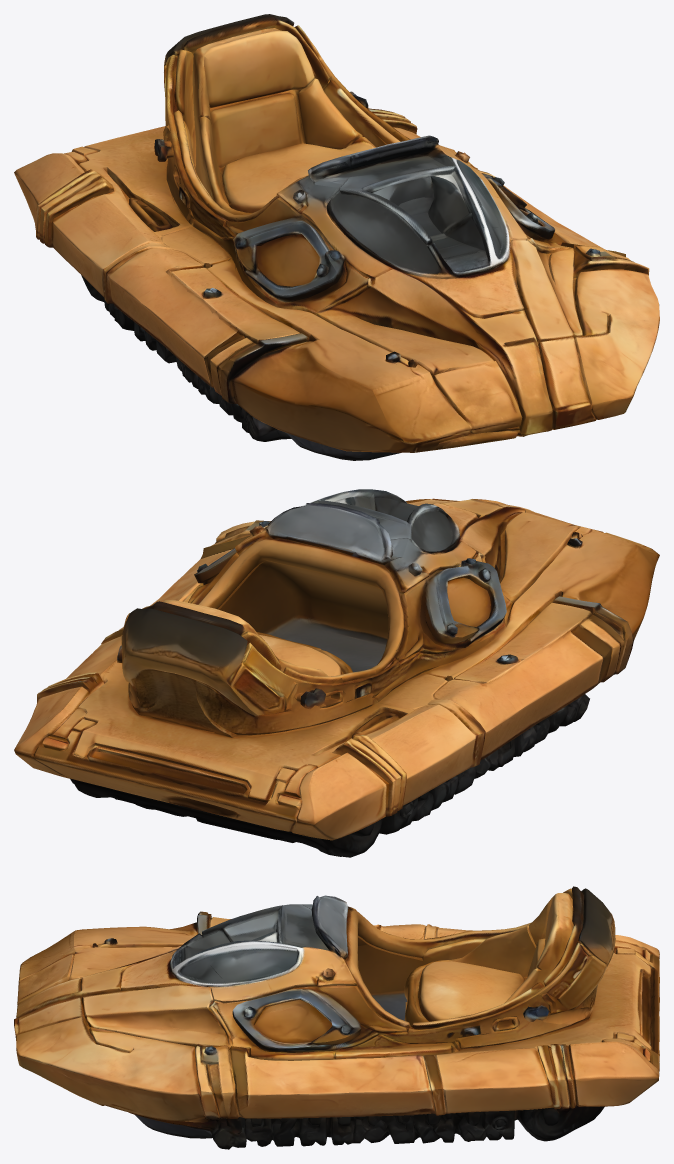
The model's file is speeder_text2.glb.
The picture shows the model from 3 angles, top to bottom: view 1: azimuth 30°, elevation 25°; view 2: azimuth 150°, elevation 25°; view 3: azimuth 270°, elevation 25°; orthographic projection. The views are drawn at different scales.
Parts seen in each view (by area): view 1: model; view 2: model; view 3: model.
Boxes of the visible parts, x1,y1,x2,y2 form: model: [14, 14, 659, 460]; model: [14, 489, 659, 857]; model: [14, 886, 659, 1149].
Bounding box in the file's own units: 1.21 × 0.6268 × 1.9.
1 material, 1 textured.
